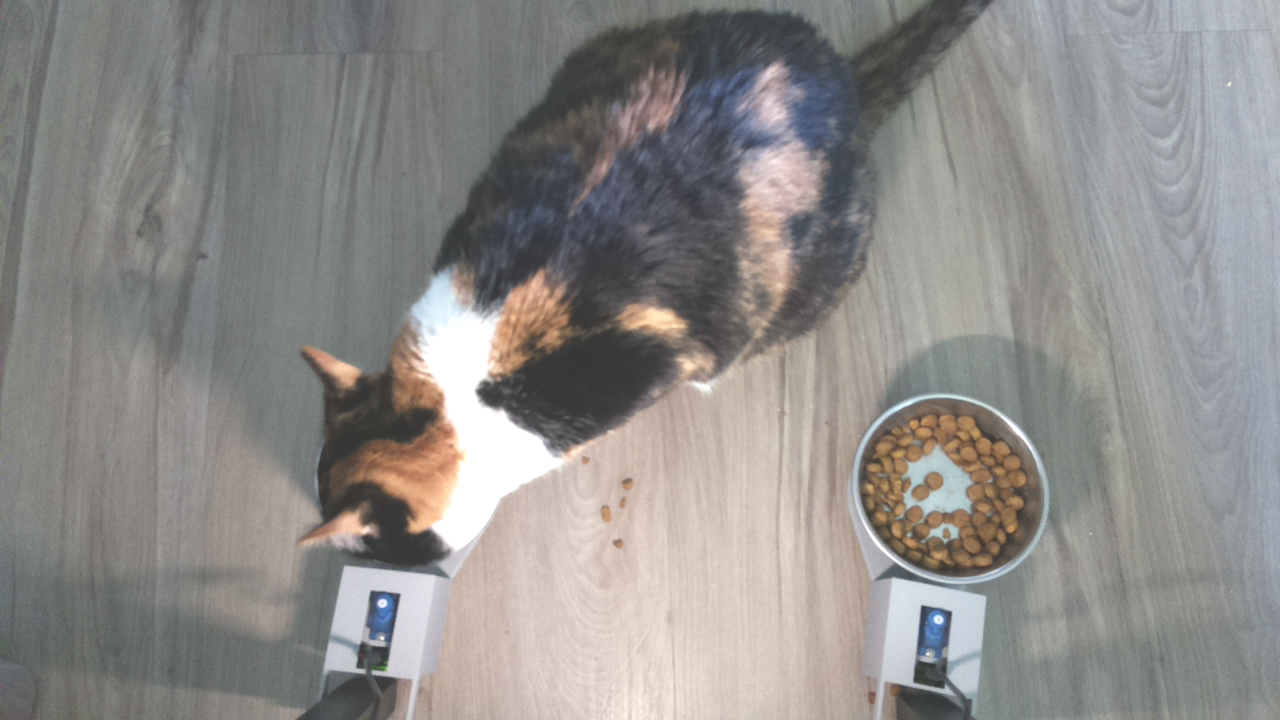bella_eating: (285, 297, 533, 585)
open_bowl: (847, 391, 1057, 591)
